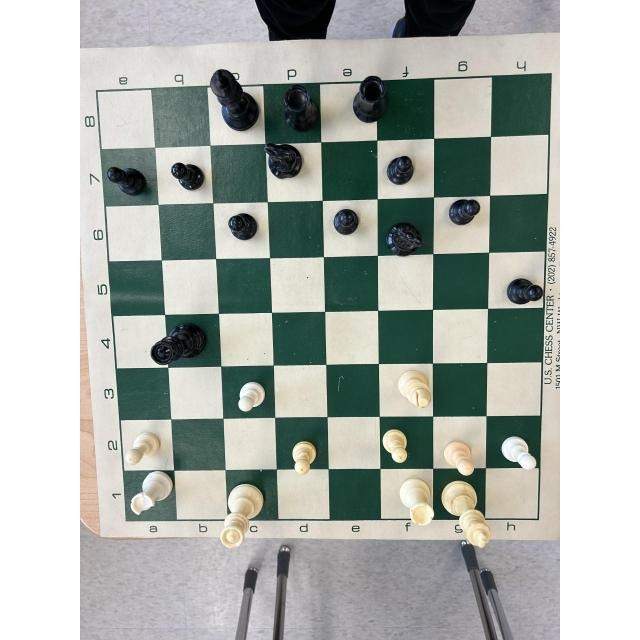black-king: (203, 67, 264, 145)
black-knight: (254, 139, 327, 198), (379, 200, 435, 259)
black-pawn: (378, 139, 436, 200), (492, 252, 549, 312), (156, 146, 213, 204), (99, 147, 157, 204), (434, 192, 490, 251), (214, 202, 267, 261), (322, 200, 378, 255)
black-queen: (143, 316, 221, 372)
black-rook: (323, 71, 391, 138), (267, 75, 321, 137)
white-bishop: (380, 365, 440, 422)
white-king: (433, 478, 504, 552)
white-pawn: (275, 417, 331, 481), (433, 417, 487, 478), (224, 367, 276, 426), (490, 420, 543, 477), (376, 414, 430, 468), (121, 419, 175, 468)
white-queen: (214, 468, 278, 560)
white-rook: (382, 467, 437, 529), (121, 468, 181, 523)
